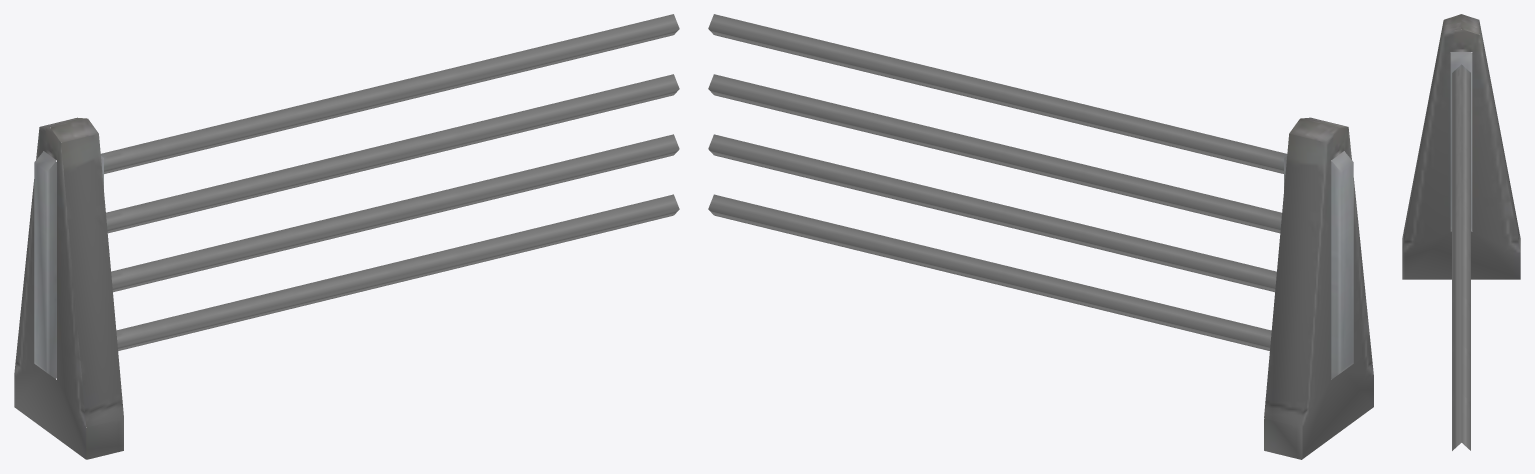
Rendered from Part - Detail 05-1e-zl0Ai.glb.
3 renders of one model, left to right at view 1: azimuth 30°, elevation 25°; view 2: azimuth 150°, elevation 25°; view 3: azimuth 270°, elevation 25°, orthographic. The views are drawn at different scales.
Parts seen in each view (by area): view 1: Detail_05_tubes, Detail_05; view 2: Detail_05_tubes, Detail_05; view 3: Detail_05, Detail_05_tubes.
Part boxes in pixels (x1,y1,x2,y2): Detail_05_tubes: [100, 14, 679, 350]; Detail_05: [14, 117, 123, 459]; Detail_05_tubes: [708, 14, 1287, 350]; Detail_05: [1264, 117, 1373, 459]; Detail_05: [1402, 14, 1520, 279]; Detail_05_tubes: [1452, 64, 1470, 450].
Size of the model in its own units: 1.32 by 0.6102 by 0.2609.
1 material, 1 textured.
